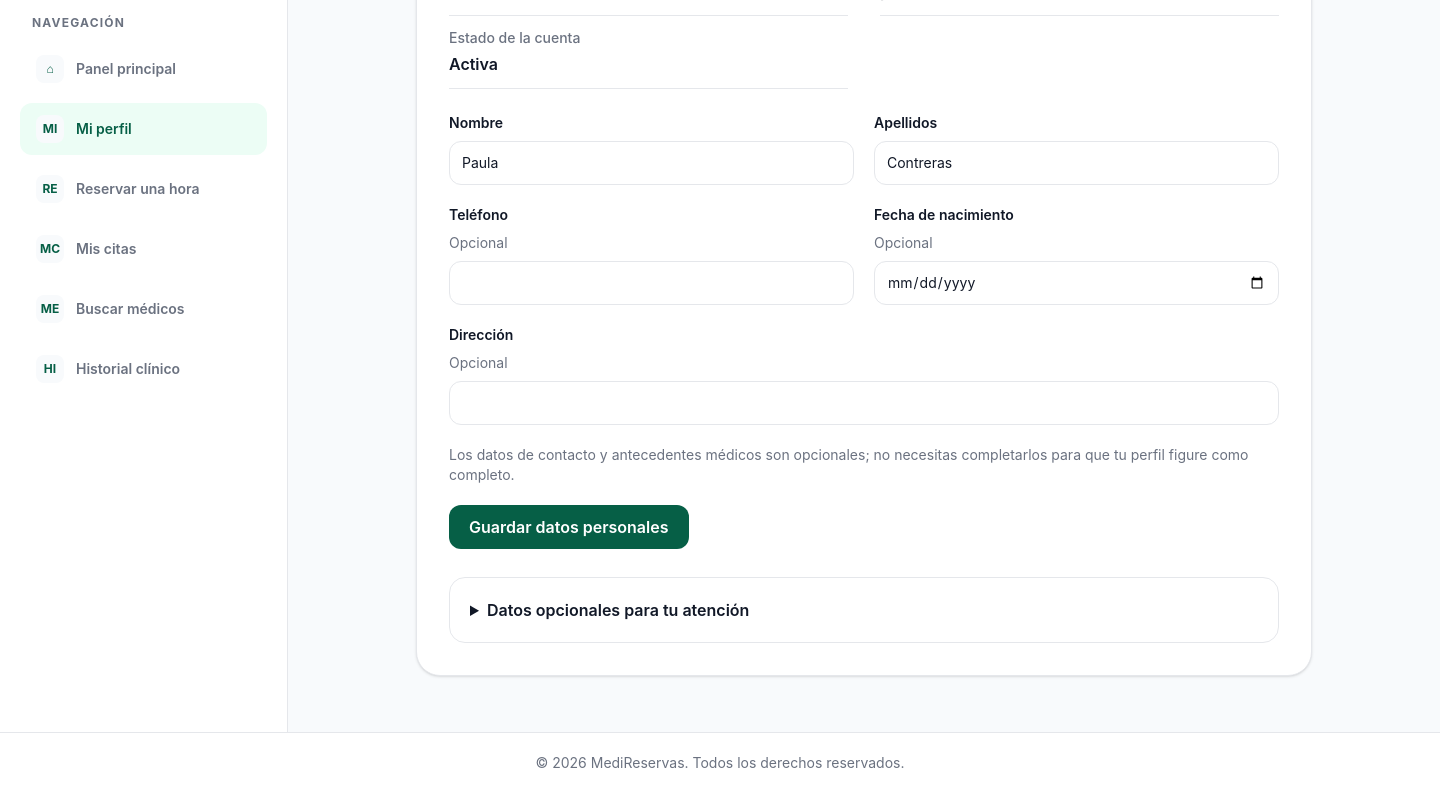
Scenario: Onboarding de perfil › permite guardar el perfil sin datos opcionales y conserva completitud
The image size is (1440, 793).
(page scrolled)
What coordinates should you click on to do the following:
click the button "Guardar datos personales"
I would click on:
 (569, 527)
Its box is [449, 505, 688, 549].
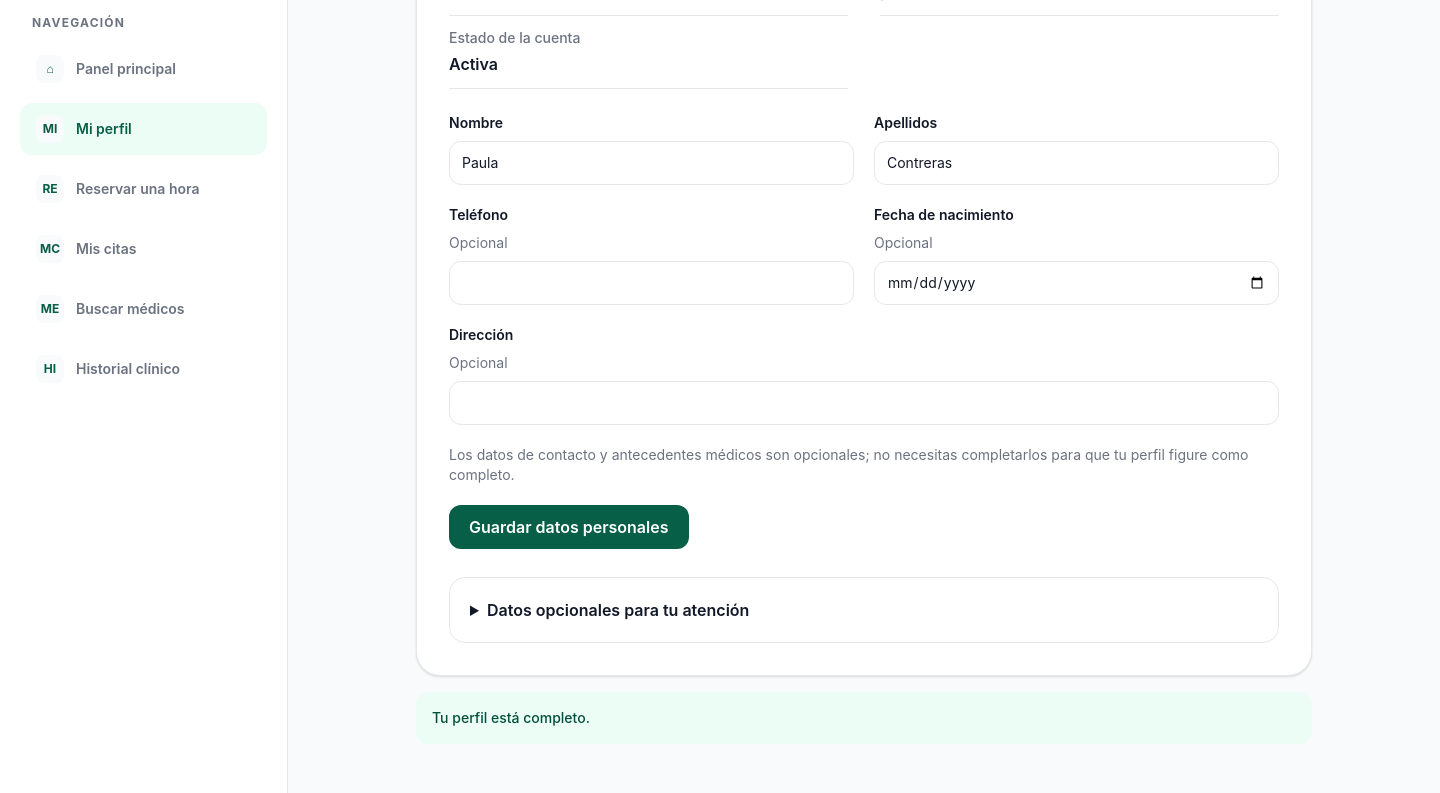
expect the message reads "Tu perfil está completo.": met, box [432, 709, 590, 726]
